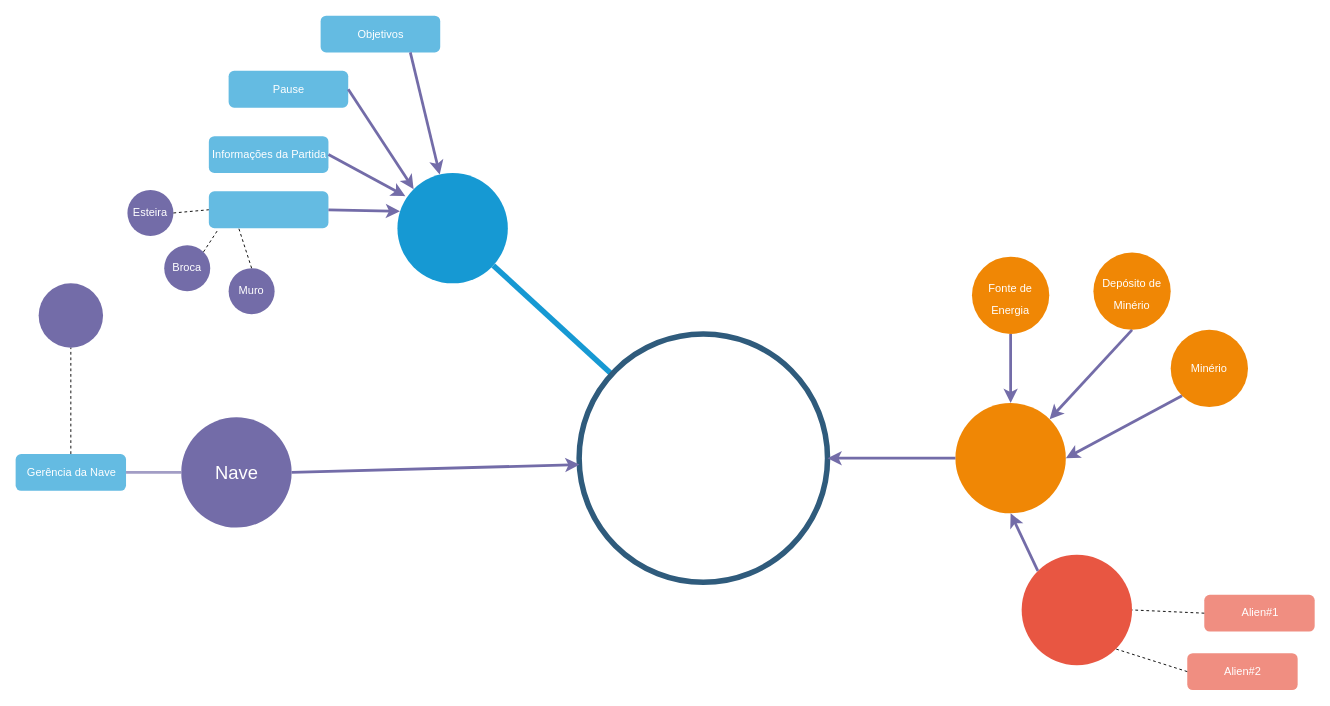
Image size: 1330x706. Some labels were removed from this diagram. The shapes that lost their labels are listed below. From the top down, each one's centre as x and y in pixels, then its label:
the point at 268,209: Construção
the point at 452,227: Interface
the point at 70,315: Robo
the point at 703,458: Fase
the point at 1010,457: Terreno
the point at 1076,609: Ninho
